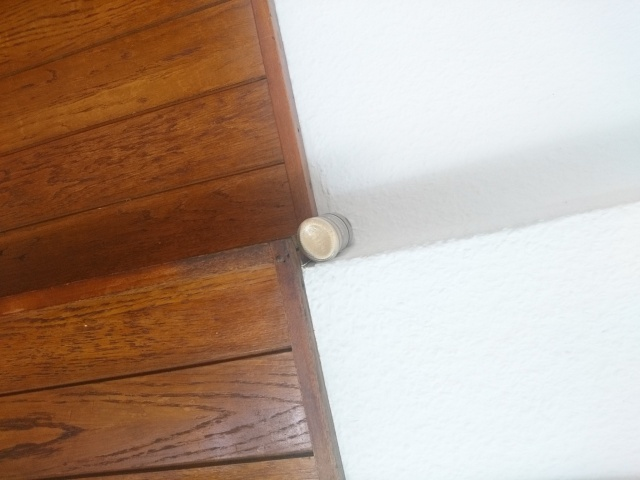Kotanyi Garlic Granules 70g: (294, 209, 353, 265)
